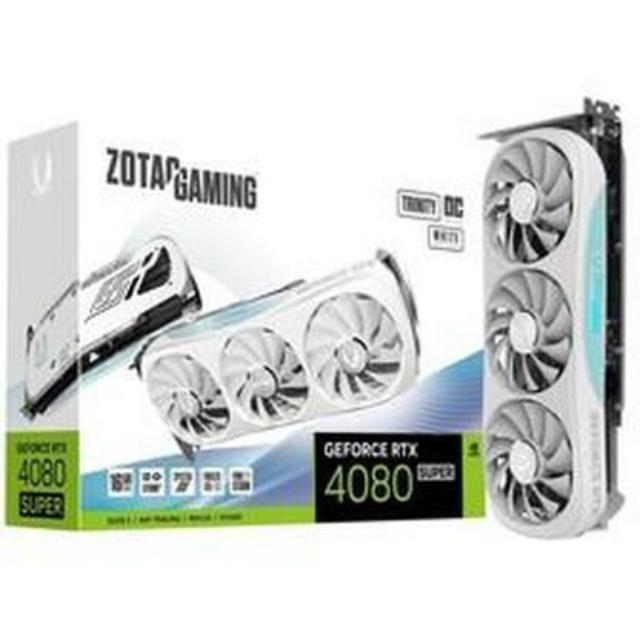GPU: (478, 97, 632, 548)
